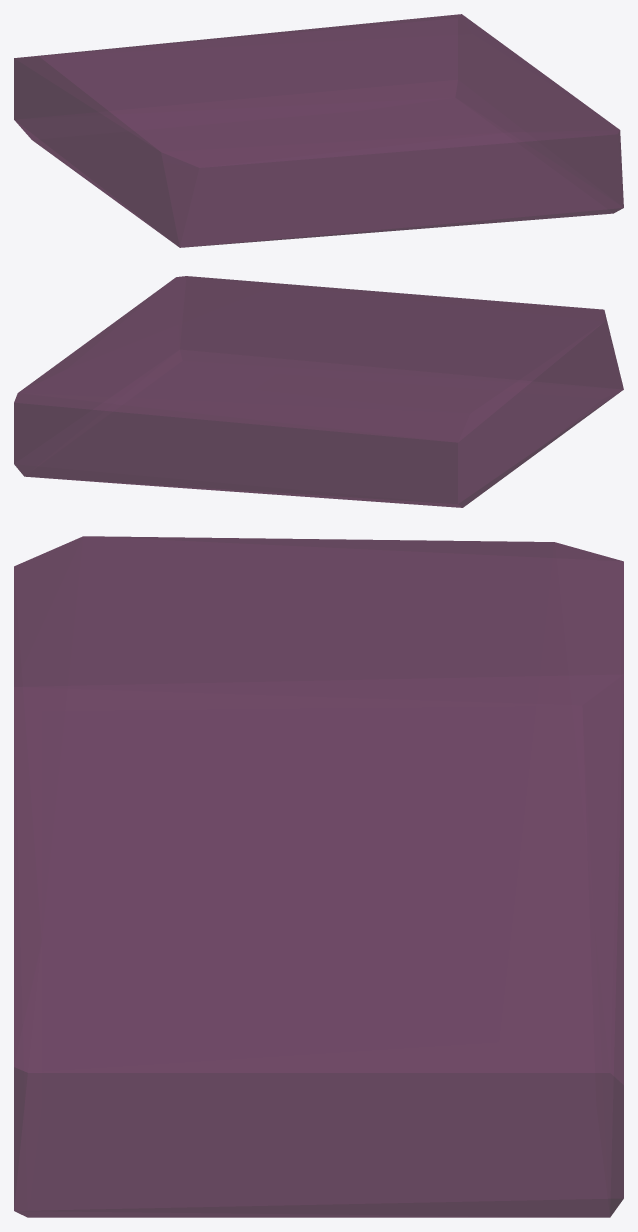
The picture shows the model from 3 angles, top to bottom: view 1: azimuth 30°, elevation 25°; view 2: azimuth 150°, elevation 25°; view 3: azimuth 270°, elevation 25°; orthographic projection. The views are drawn at different scales.
Visible parts, largest first — view 1: Shape_IndexedFaceSet.009_Shape_IndexedFaceSet.5723; view 2: Shape_IndexedFaceSet.009_Shape_IndexedFaceSet.5723; view 3: Shape_IndexedFaceSet.009_Shape_IndexedFaceSet.5723.
Boxes of the visible parts, x1,y1,x2,y2 form: Shape_IndexedFaceSet.009_Shape_IndexedFaceSet.5723: (14, 14, 623, 247); Shape_IndexedFaceSet.009_Shape_IndexedFaceSet.5723: (14, 276, 623, 507); Shape_IndexedFaceSet.009_Shape_IndexedFaceSet.5723: (14, 536, 623, 1217).
Size of the model in its own units: 0.1714 by 0.058 by 0.1109.
